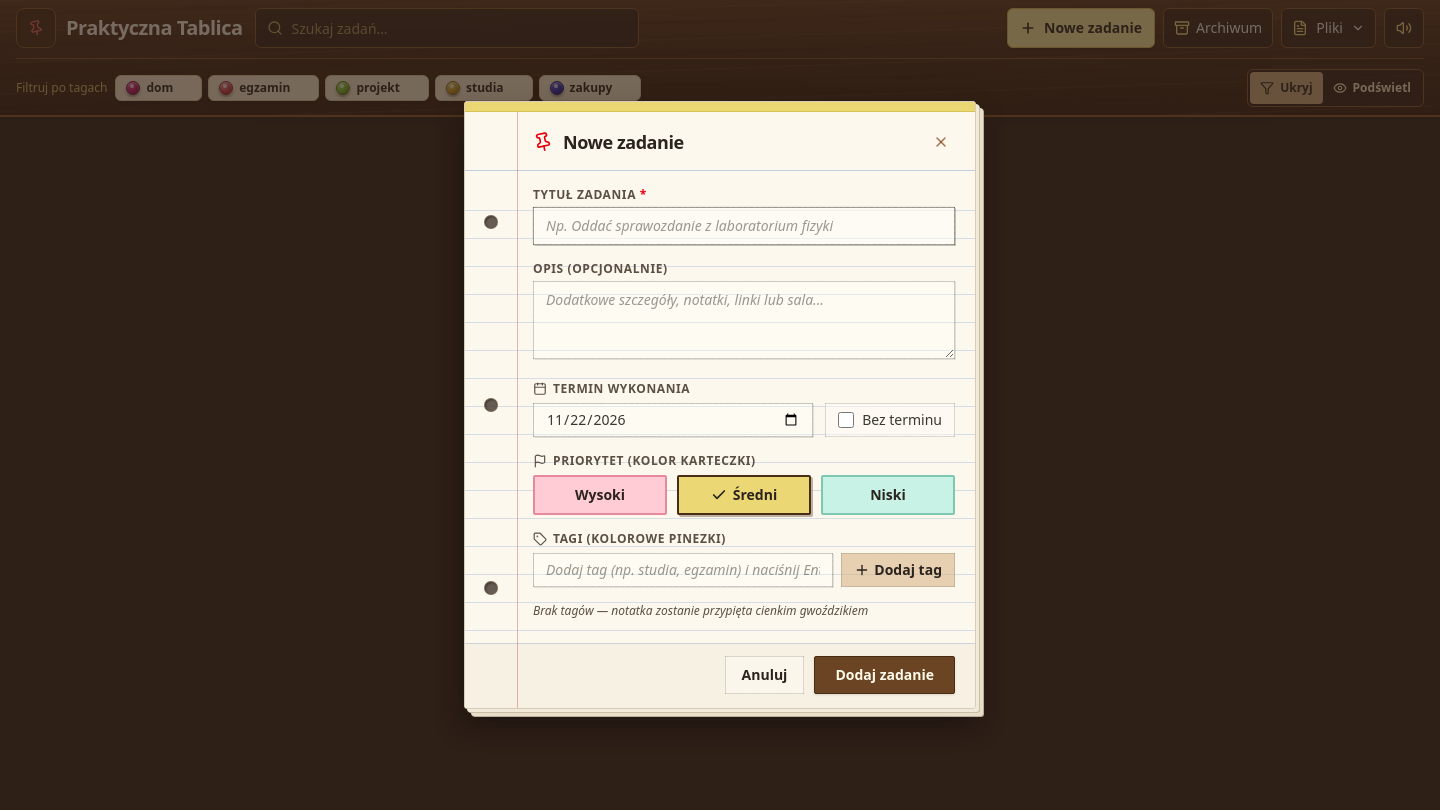
Test case: Milestone M3 — TopBar, TaskModal, ContextMenu & Toast › TaskModal component › handles "Bez terminu" checkbox toggling, disabling date input and restoring today date when unchecked
Expected: the checkbox with test id "task-checkbox-no-deadline" is not checked, [838, 412, 854, 428]
Clear the date field with test id "task-input-date" at (673, 420), box [533, 403, 813, 437]
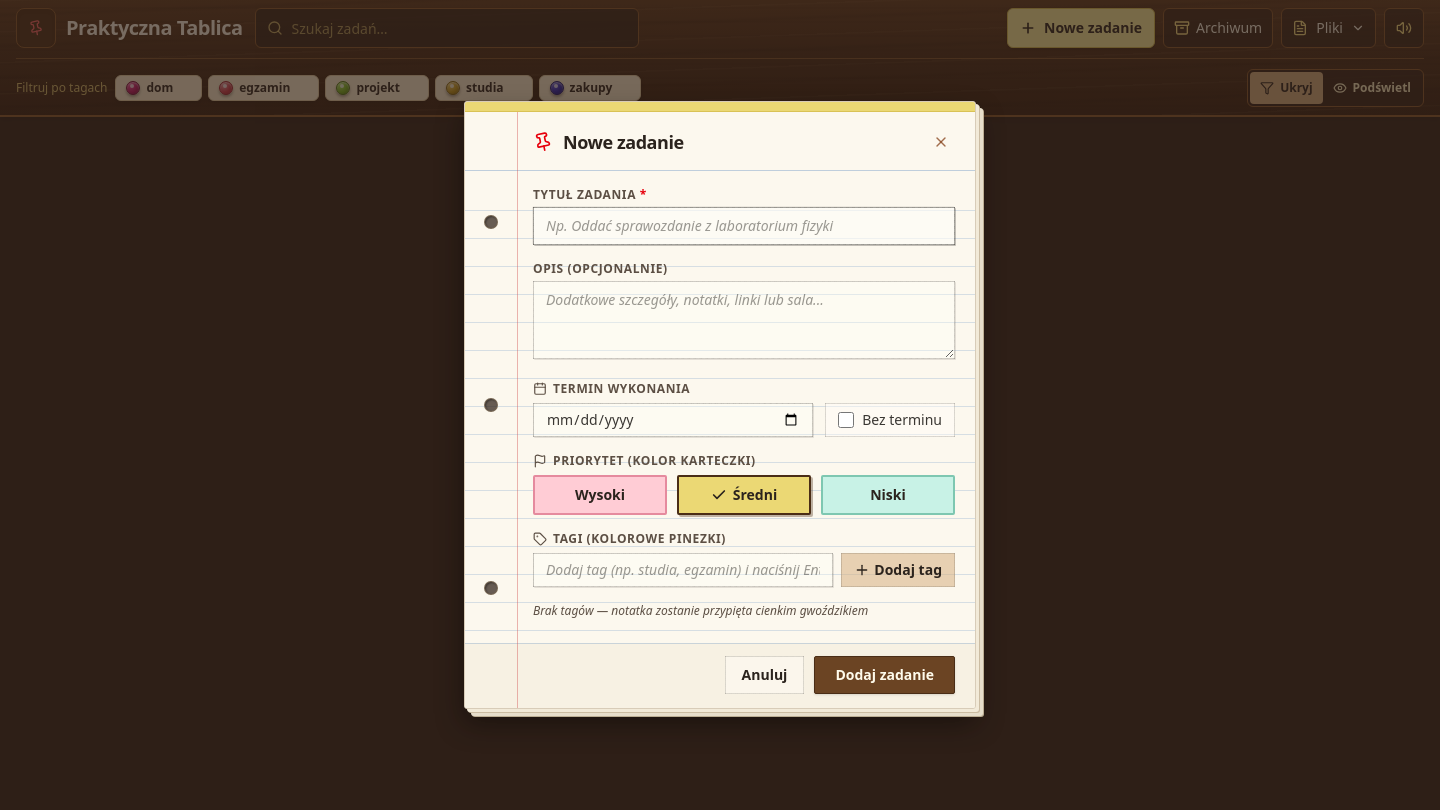
Click the checkbox with test id "task-checkbox-no-deadline" at (846, 420), box [838, 412, 854, 428]
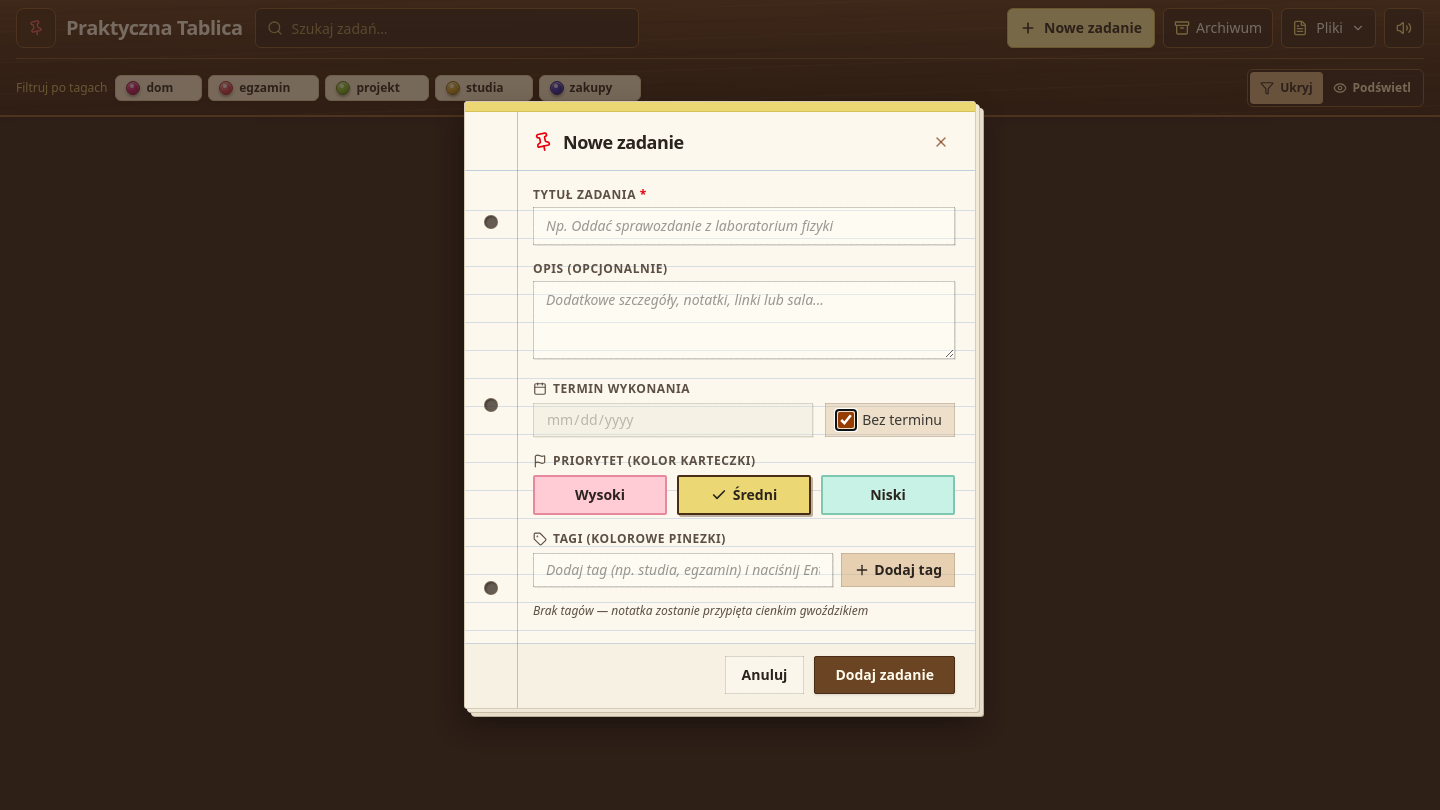
Expected: the checkbox with test id "task-checkbox-no-deadline" is checked
Expected: the date field with test id "task-input-date" is disabled, [533, 403, 813, 437]
Click the checkbox with test id "task-checkbox-no-deadline" at (846, 420), box [838, 412, 854, 428]
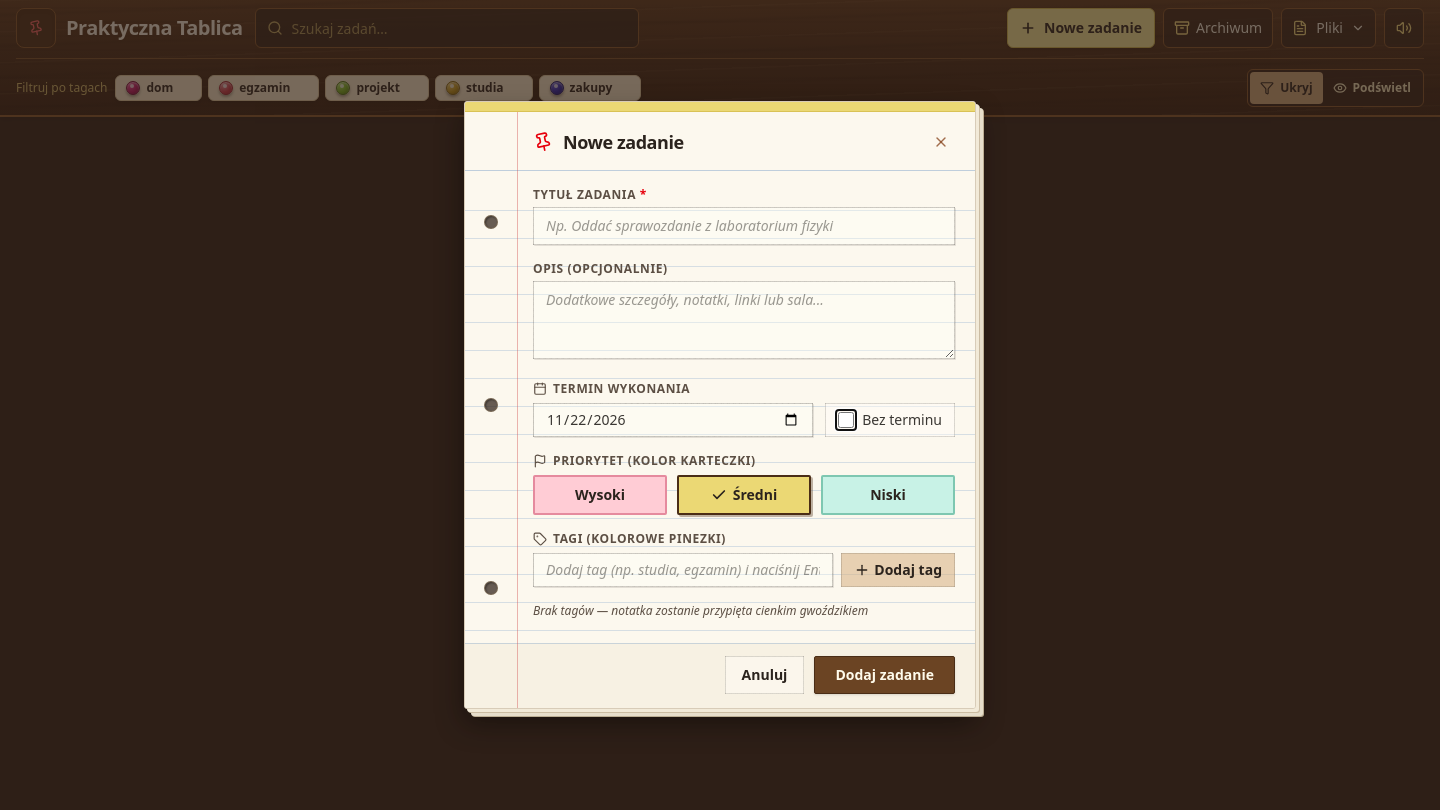
Expected: the checkbox with test id "task-checkbox-no-deadline" is not checked, [838, 412, 854, 428]
Expected: the date field with test id "task-input-date" is enabled, [533, 403, 813, 437]
Expected: the date field with test id "task-input-date" holds "2026-11-22", [533, 403, 813, 437]
